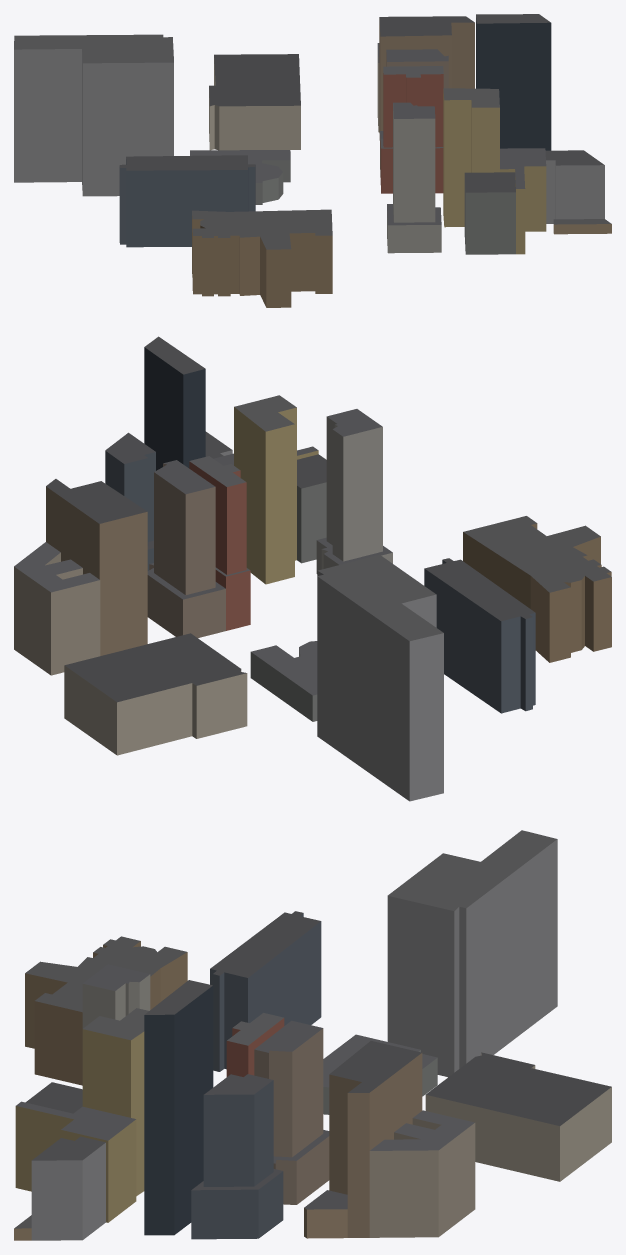
File: 0_5.far.glb
3 renders of one model, top to bottom at view 1: azimuth 30°, elevation 25°; view 2: azimuth 150°, elevation 25°; view 3: azimuth 270°, elevation 25°, orthographic. The views are drawn at different scales.
Parts seen in each view (by area): view 1: 0_5_far; view 2: 0_5_far; view 3: 0_5_far.
Part boxes in pixels (x1,y1,x2,y2): 0_5_far: (14, 14, 611, 307); 0_5_far: (14, 336, 611, 801); 0_5_far: (14, 830, 611, 1240).
Size of the model in its own units: 297 by 126 by 309.
